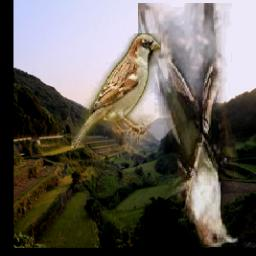Cuckoo: (138, 4, 238, 248)
Sparrow: (71, 33, 161, 149)
